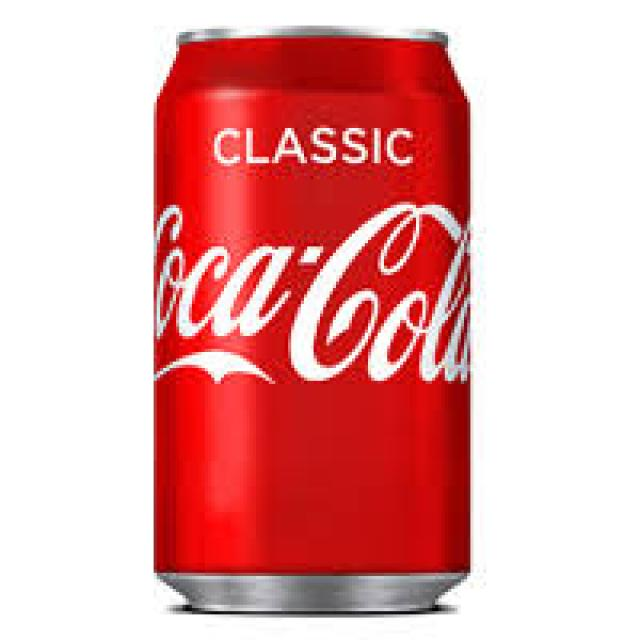aluminum_can: (157, 32, 470, 614)
